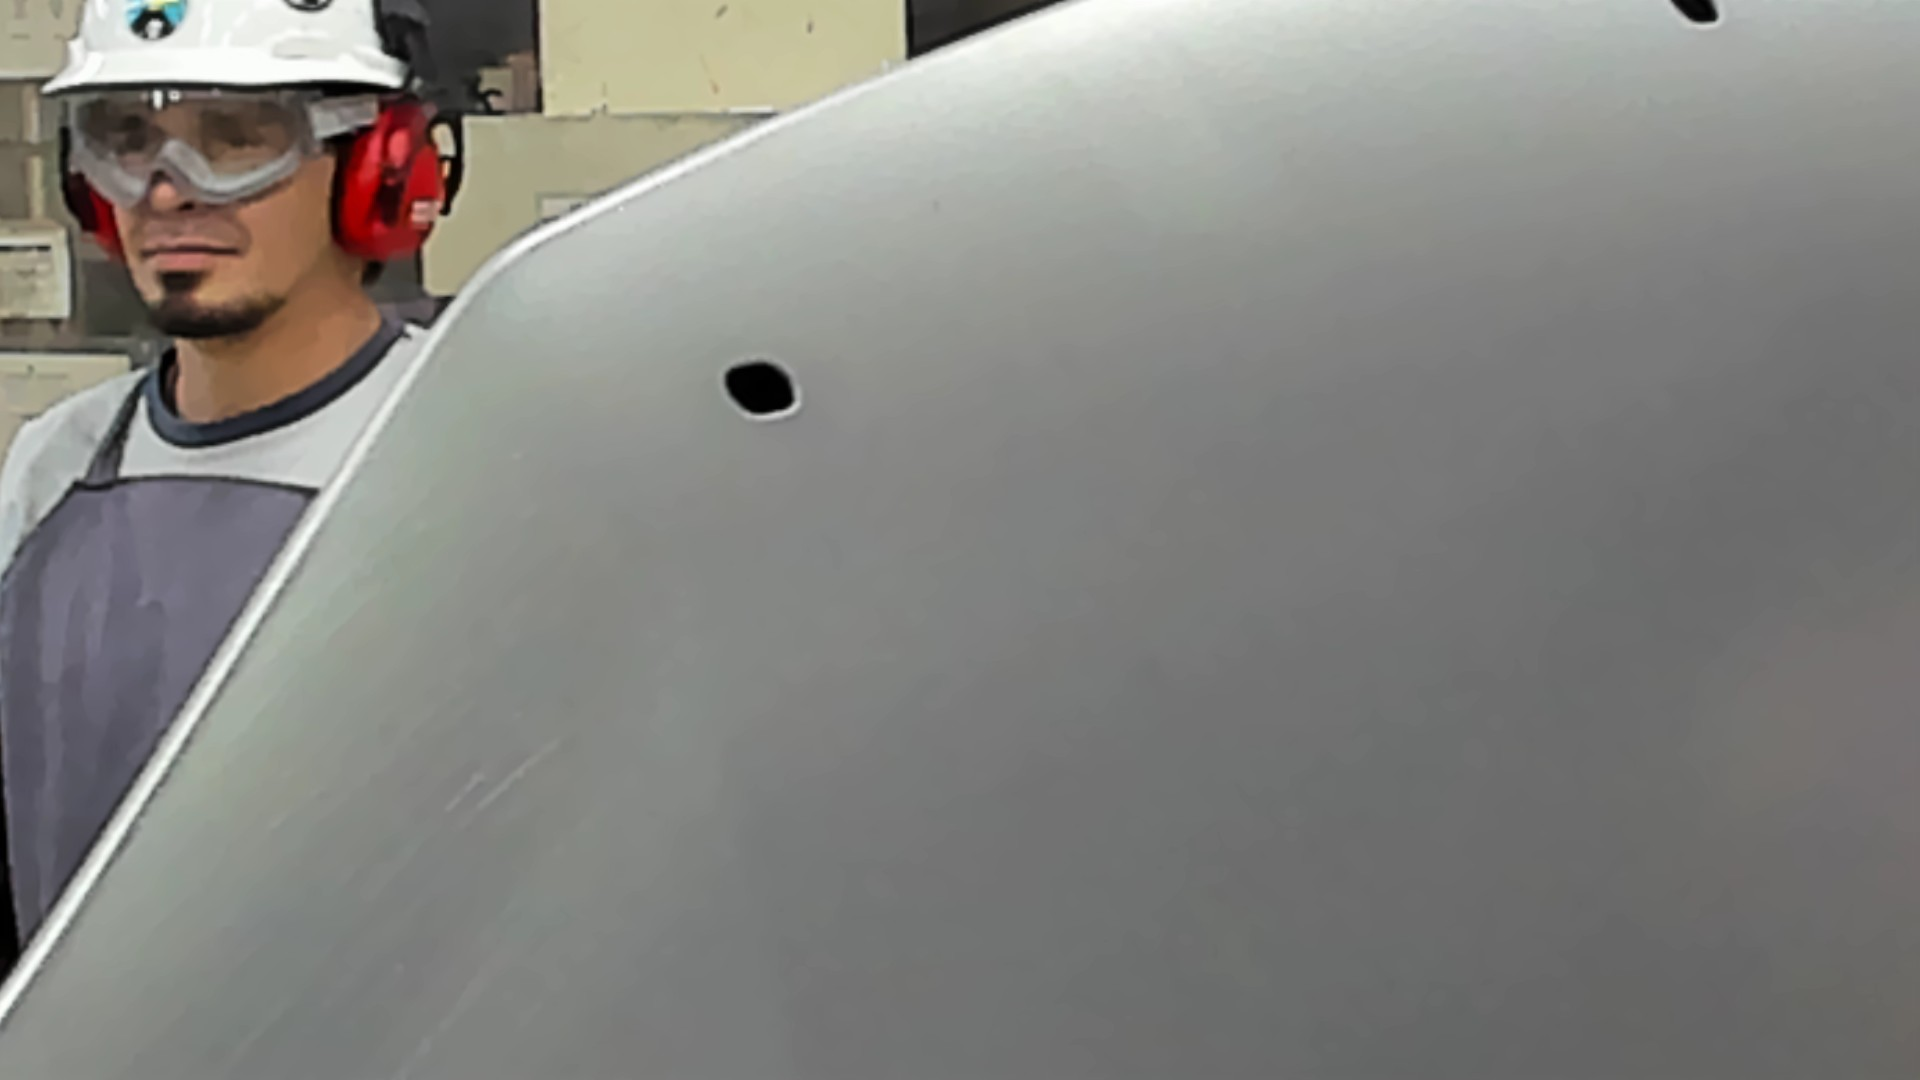amorfo: (717, 356, 804, 429), (1669, 1, 1730, 36)
